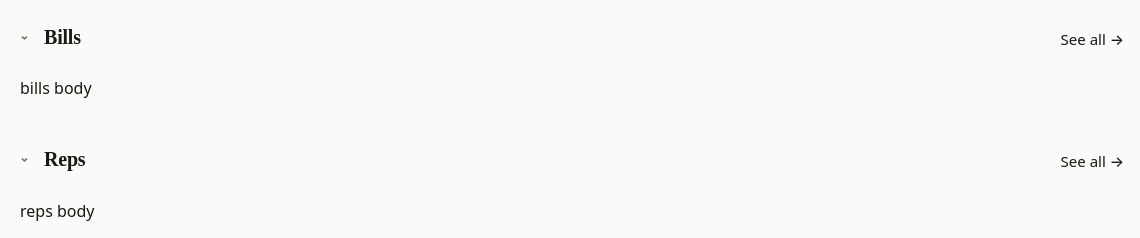
Test: BriefingSection › collapsibility (S0 / #771) › uses different localStorage keys per slug so sections collapse independently
This screenshot has width=1140, height=238.
Click the button with aria-label "collapse bills section". click: {"x": 62, "y": 37}
box: [20,20,1045,59]
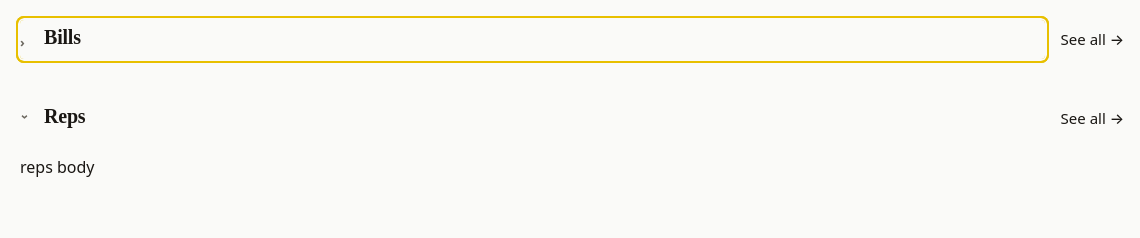
Expected: the text "reps body" is shown, [20,156,94,178]
Result: the text "bills body" is gone
